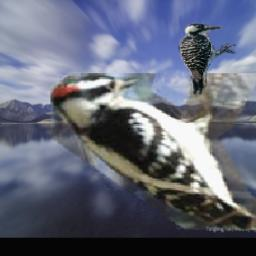Woodpecker: (52, 73, 256, 230), (176, 23, 237, 95)
